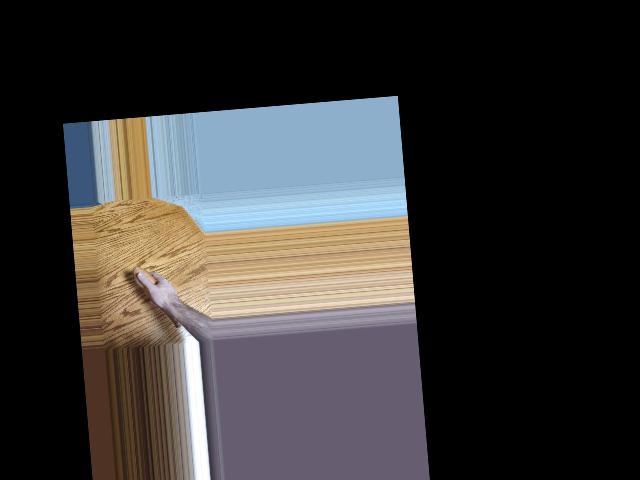sweet_potato: (130, 262, 180, 332)
